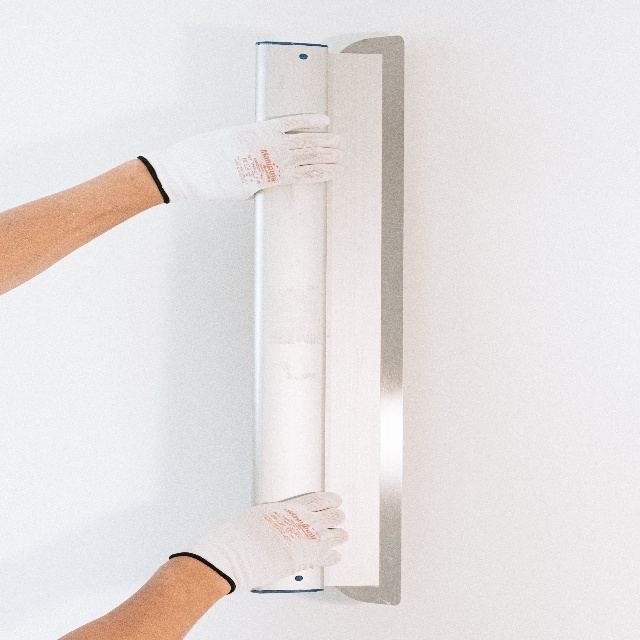Guantes: (131, 111, 349, 206), (168, 490, 351, 585)
